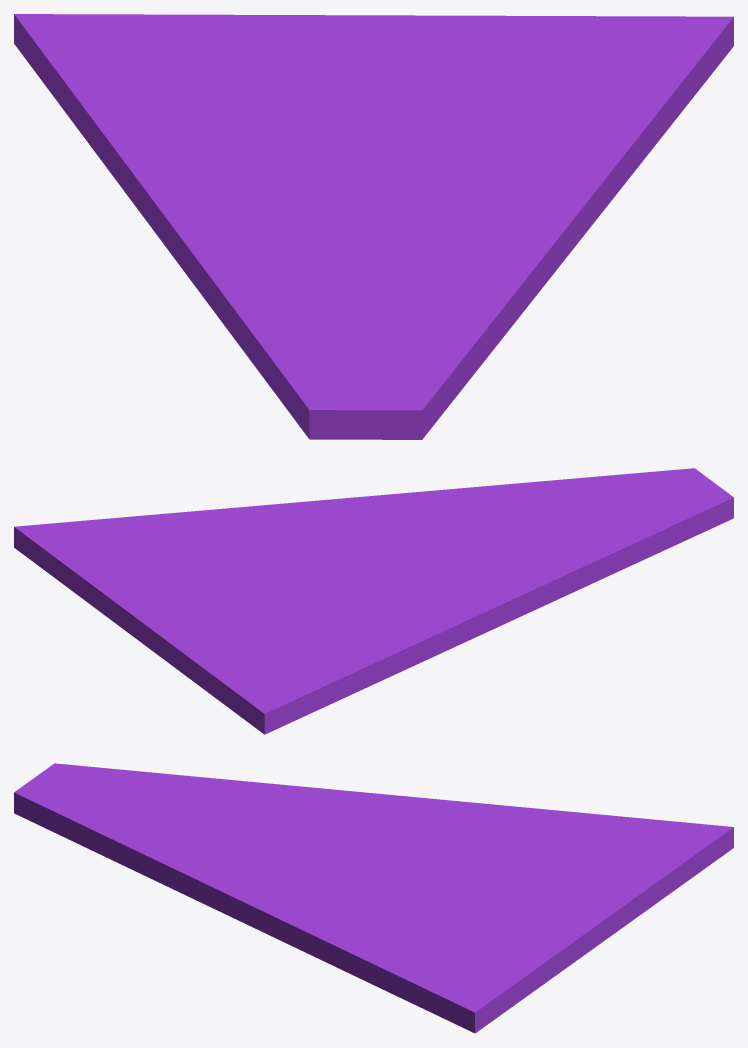
Rendered from StairsStep_17_chunks.fbx.
The picture shows the model from 3 angles, top to bottom: view 1: azimuth 30°, elevation 25°; view 2: azimuth 150°, elevation 25°; view 3: azimuth 270°, elevation 25°; orthographic projection. The views are drawn at different scales.
Visible parts, largest first — view 1: StairsStep_17_3, StairsStep_17_1, StairsStep_17_2; view 2: StairsStep_17_3, StairsStep_17_1, StairsStep_17_2; view 3: StairsStep_17_3, StairsStep_17_1, StairsStep_17_2.
Part boxes in pixels (x1=…): StairsStep_17_3: x1=14, y1=14, x2=504, y2=263; StairsStep_17_1: x1=371, y1=15, x2=733, y2=312; StairsStep_17_2: x1=177, y1=211, x2=524, y2=439; StairsStep_17_3: x1=93, y1=552, x2=526, y2=734; StairsStep_17_1: x1=14, y1=487, x2=469, y2=606; StairsStep_17_2: x1=424, y1=468, x2=733, y2=613; StairsStep_17_3: x1=321, y1=792, x2=733, y2=973; StairsStep_17_1: x1=163, y1=849, x2=557, y2=1033; StairsStep_17_2: x1=14, y1=763, x2=358, y2=883.
Size of the model in its own units: 459 by 17.94 by 560.
